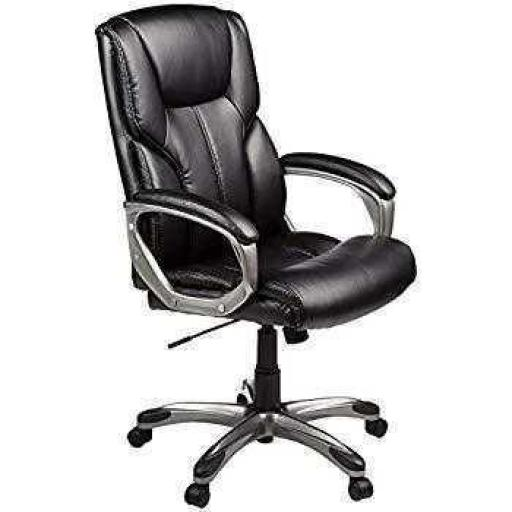chair: (88, 0, 420, 509)
